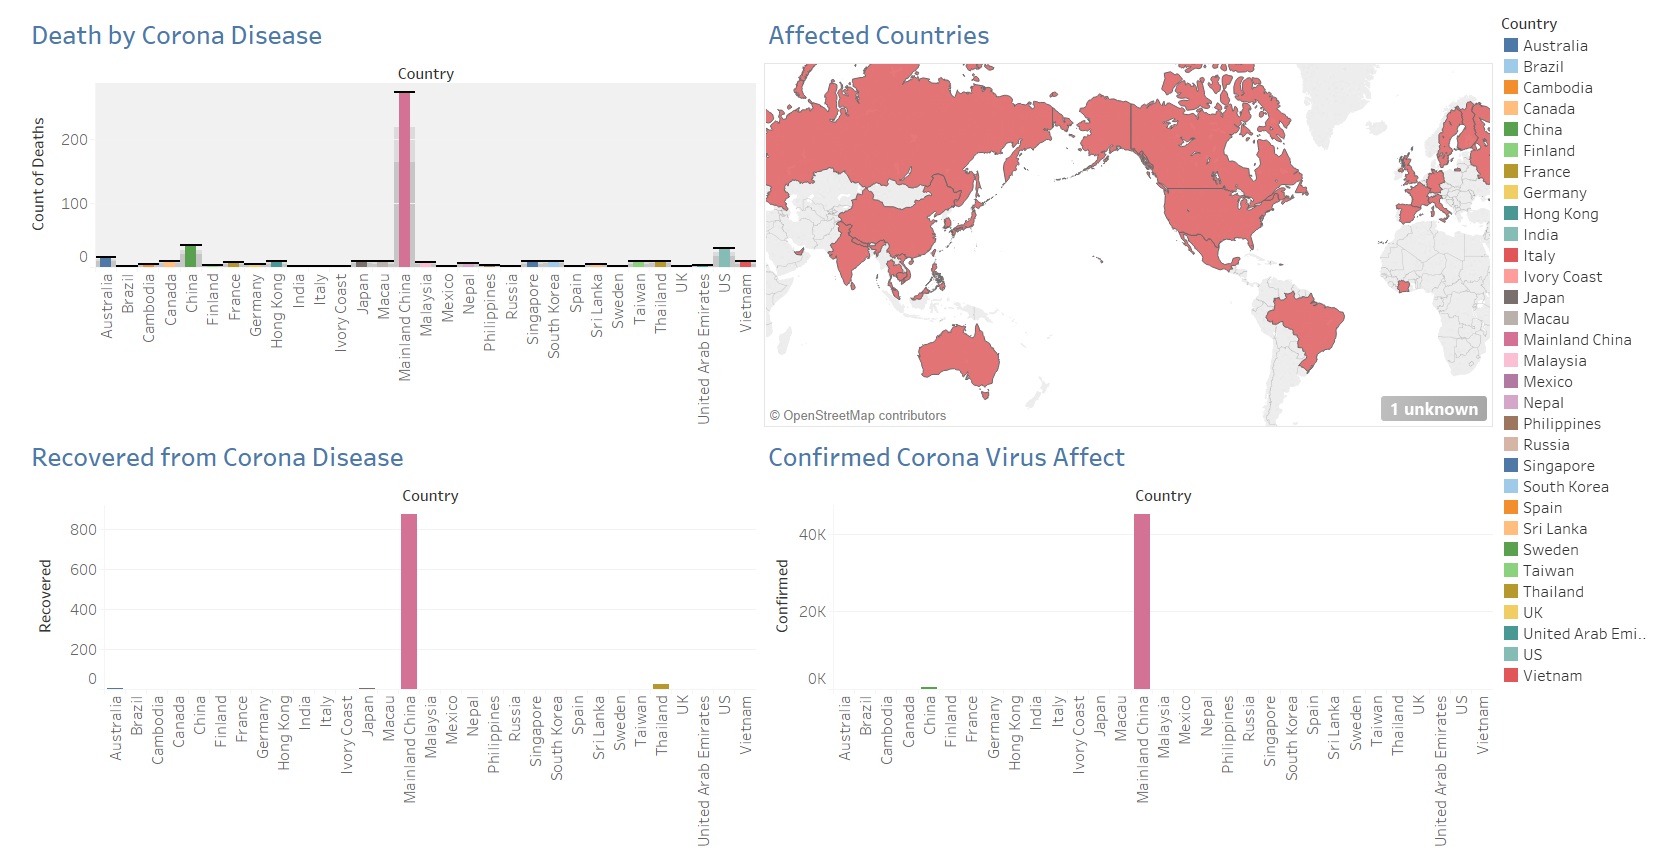

What the dashboard file says about the page in this screenshot:
{"tool":"tableau","page":{"name":"Corona","canvas":[1000,1000],"units":"permille","ordinal":0},"visuals":[{"type":"worksheet","title":"Deaths","mark":"Automatic","rows":["Deaths"],"cols":["Country"],"box":[4.9,9.3,446.7,490.7]},{"type":"worksheet","title":"Country","mark":"Multipolygon","box":[451.5,9.3,446.7,490.7]},{"type":"legend","title":"Recovered","param":"[federated.1d3no670klshhi1al5mcq0vr9ock].[none:Country:nk]","box":[898.2,9.3,97,791.9]},{"type":"worksheet","title":"Recovered","mark":"Automatic","rows":["Recovered"],"cols":["Country"],"box":[4.9,500,446.7,490.7]},{"type":"worksheet","title":"Confirmed","mark":"Automatic","rows":["Confirmed"],"cols":["Country"],"box":[451.5,500,446.7,490.7]}]}

Visuals, with their boxes on the dashboard's canvas, which has no fixed pixel size, in thousandths of its width and height (x1, y1, x2, y2). These are canvas units, not pixel positions in the 1656x862 screenshot, which may show the page scaled, cropped or inside an application window:
"Deaths" worksheet: bbox(5, 9, 452, 500)
"Country" worksheet (Multipolygon marks): bbox(452, 9, 898, 500)
"Recovered" legend: bbox(898, 9, 995, 801)
"Recovered" worksheet: bbox(5, 500, 452, 991)
"Confirmed" worksheet: bbox(452, 500, 898, 991)
